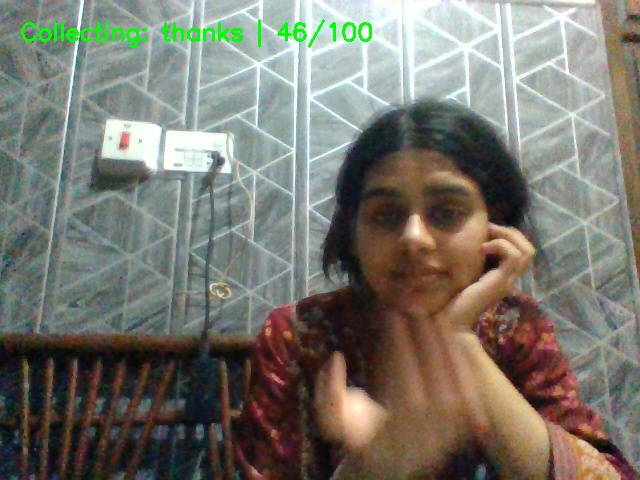thanks: (276, 304, 508, 479)
